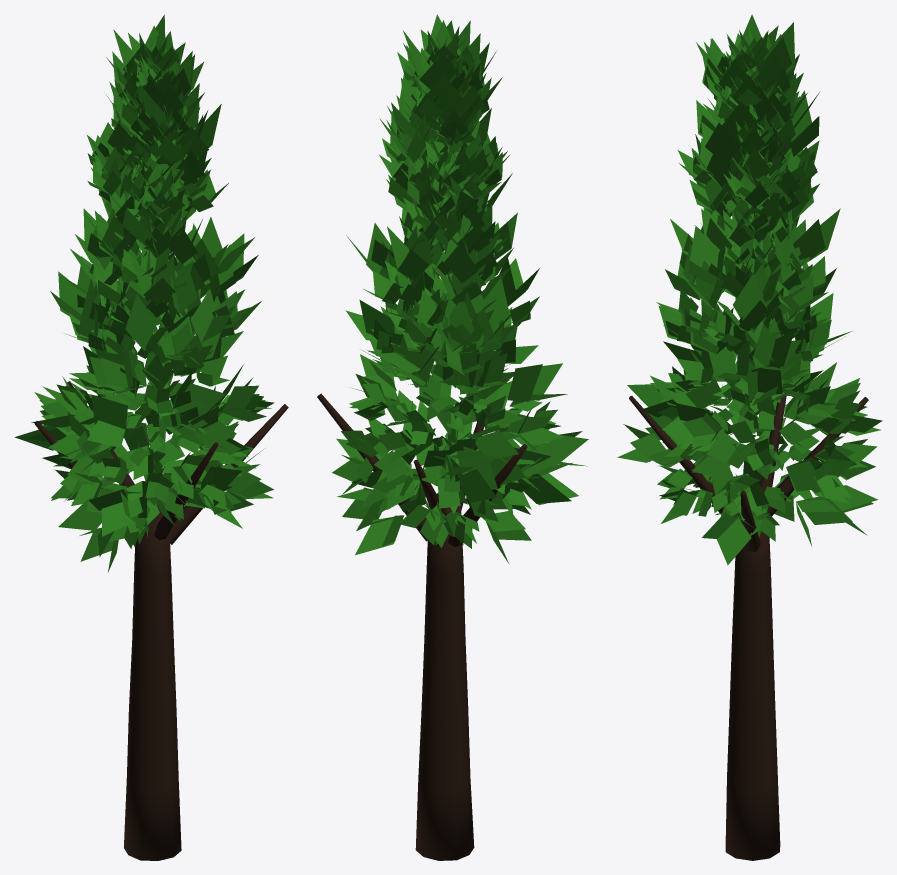
The model's file is Tree_05_B_LOD0.obj.
3 renders of one model, left to right at view 1: azimuth 30°, elevation 25°; view 2: azimuth 150°, elevation 25°; view 3: azimuth 270°, elevation 25°, orthographic.
Visible parts, largest first — view 1: Leaves, Trunk; view 2: Leaves, Trunk; view 3: Leaves, Trunk.
Part boxes in pixels (x1,y1,x2,y2): Leaves: [14, 14, 274, 572]; Trunk: [34, 381, 288, 860]; Leaves: [332, 14, 588, 564]; Trunk: [317, 393, 527, 860]; Leaves: [617, 14, 882, 565]; Trunk: [629, 395, 868, 860].
Bounding box in the file's own units: 2.18 × 7.08 × 2.06.
